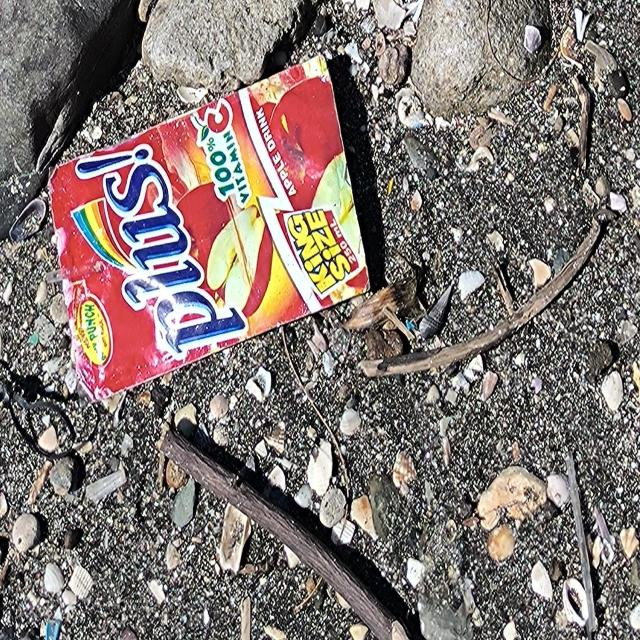plastic_waste: (50, 53, 373, 398)
